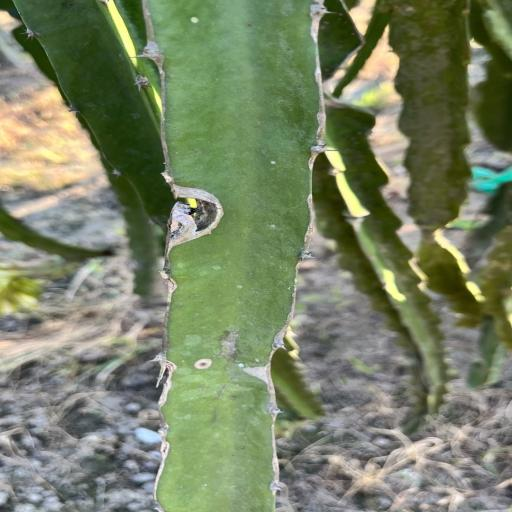stemcanker: (226, 445, 249, 460), (185, 16, 207, 27), (191, 359, 214, 369), (262, 157, 278, 167), (281, 46, 297, 56), (248, 120, 262, 131), (291, 81, 304, 92), (246, 20, 260, 30), (229, 394, 241, 404), (191, 149, 205, 157), (253, 357, 264, 366), (237, 361, 246, 371)
